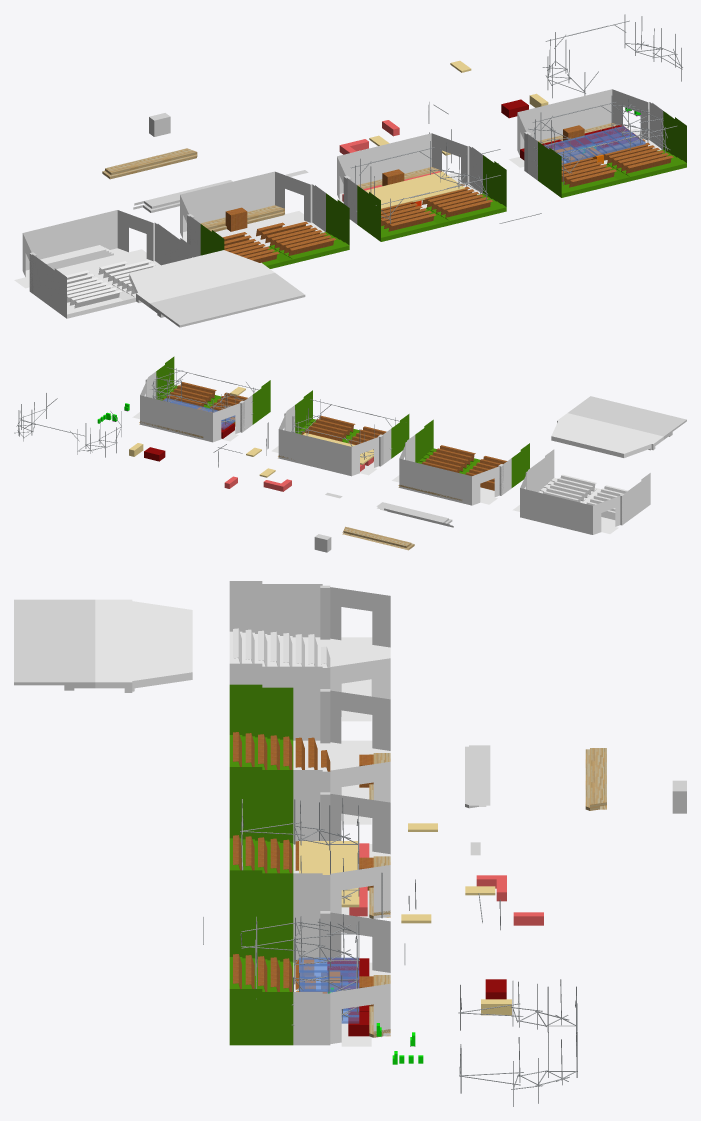
3 views of the same model, one above another, from view 1: azimuth 30°, elevation 25°; view 2: azimuth 150°, elevation 25°; view 3: azimuth 270°, elevation 25° (orthographic). The views are drawn at different scales.
Visible parts, largest first — view 1: G-Object.002, G-Object.009, G-Object.221, G-Object.074, G-Object.005, G-Object.006, G-Object.075, G-Object.222, G-Object.010, G-Object.003, G-Object, G-Object.067 (+2 smaller); view 2: G-Object.009, G-Object.221, G-Object.074, G-Object.002, G-Object.005, G-Object.006, G-Object.003, G-Object.010, G-Object.222, G-Object.075, G-Object.067, G-Object.016 (+1 smaller); view 3: G-Object.002, G-Object.005, G-Object.009, G-Object.221, G-Object.222, G-Object.006, G-Object.074, G-Object.075, G-Object.003, G-Object.010, G-Object.016, G-Object.067.
Boxes of the visible parts, <box> form: G-Object.002: <box>14,210,168,300</box>; G-Object.009: <box>180,171,325,257</box>; G-Object.221: <box>509,89,663,180</box>; G-Object.074: <box>337,133,482,224</box>; G-Object.005: <box>129,250,274,307</box>; G-Object.006: <box>149,273,305,327</box>; G-Object.075: <box>357,155,506,241</box>; G-Object.222: <box>538,111,686,197</box>; G-Object.010: <box>200,193,349,268</box>; G-Object.003: <box>43,232,192,318</box>; G-Object: <box>40,245,113,269</box>; G-Object.067: <box>105,148,197,175</box>; G-Object.009: <box>392,435,511,505</box>; G-Object.221: <box>132,371,252,442</box>; G-Object.074: <box>271,405,391,476</box>; G-Object.002: <box>512,464,632,534</box>; G-Object.005: <box>551,413,663,457</box>; G-Object.006: <box>568,396,686,439</box>; G-Object.003: <box>536,449,650,517</box>; G-Object.010: <box>415,419,529,487</box>; G-Object.222: <box>156,356,270,424</box>; G-Object.075: <box>295,390,409,458</box>; G-Object.067: <box>343,526,411,547</box>; G-Object.016: <box>376,502,448,522</box>; G-Object.002: <box>293,584,390,721</box>; G-Object.005: <box>95,599,192,692</box>; G-Object.009: <box>293,687,390,824</box>; G-Object.221: <box>293,909,390,1046</box>; G-Object.222: <box>229,906,293,1045</box>; G-Object.006: <box>14,599,95,690</box>; G-Object.074: <box>293,790,390,918</box>; G-Object.075: <box>229,787,293,909</box>; G-Object.003: <box>229,581,293,687</box>; G-Object.010: <box>229,684,293,790</box>; G-Object.016: <box>469,745,490,805</box>; G-Object.067: <box>590,748,606,807</box>.
Bounding box in the file's own units: 66.42 × 9.19 × 40.15.
14 materials, 3 textured.
